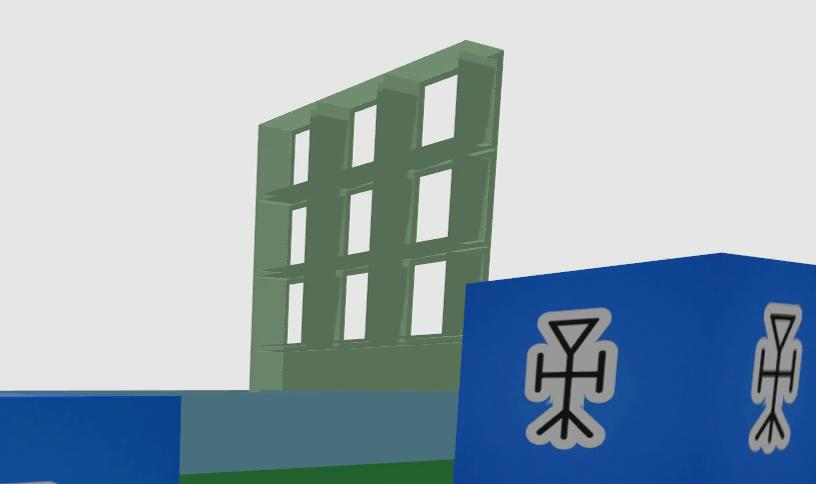KFS_REAL: (453, 254, 815, 484), (0, 394, 180, 484), (524, 309, 617, 449), (749, 304, 802, 454), (10, 482, 56, 484)
